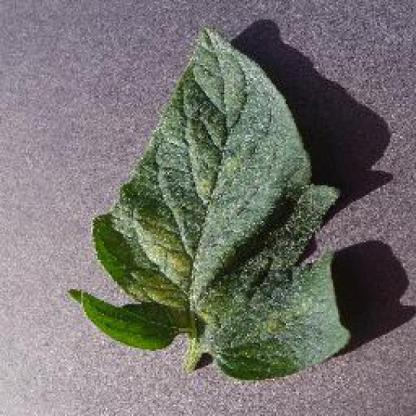Tomato_Spider_Mites: (74, 28, 350, 378)
